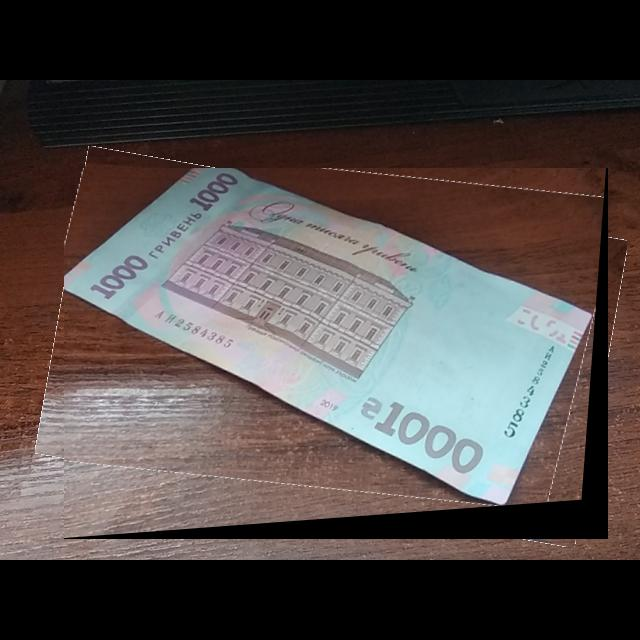1000uah: (64, 168, 599, 513)
